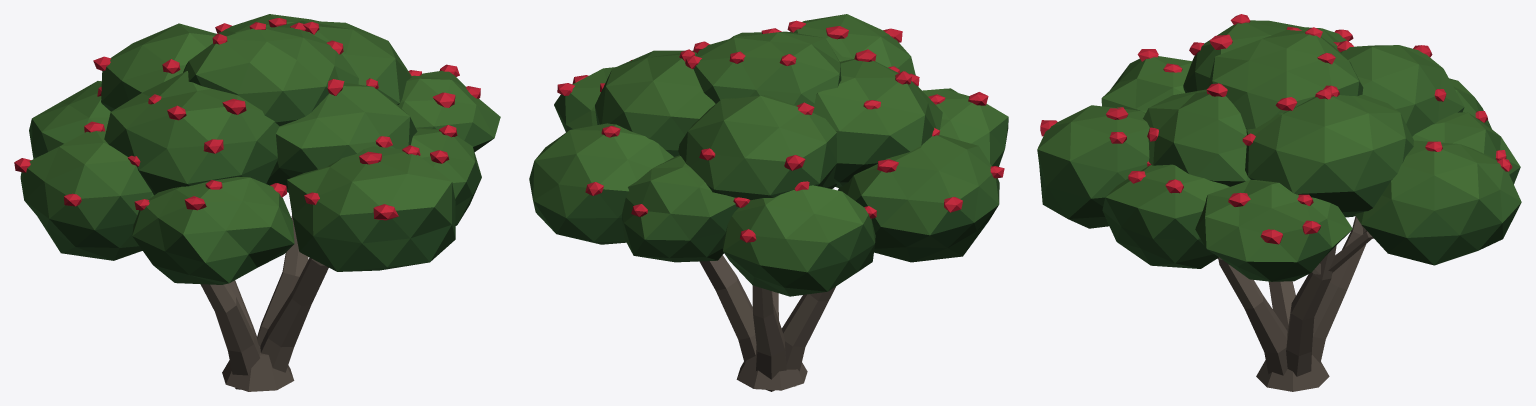
The model's file is pohutukawa_tree.glb.
3 views of the same model, side by side, from view 1: azimuth 30°, elevation 25°; view 2: azimuth 150°, elevation 25°; view 3: azimuth 270°, elevation 25° (orthographic).
Parts seen in each view (by area): view 1: pohutukawa_tree; view 2: pohutukawa_tree; view 3: pohutukawa_tree.
Boxes of the visible parts, box(x1,y1,x2,y2) form: pohutukawa_tree: box(14, 14, 500, 391); pohutukawa_tree: box(529, 14, 1008, 391); pohutukawa_tree: box(1037, 14, 1521, 391).
Size of the model in its own units: 7.88 by 5.95 by 7.65.
